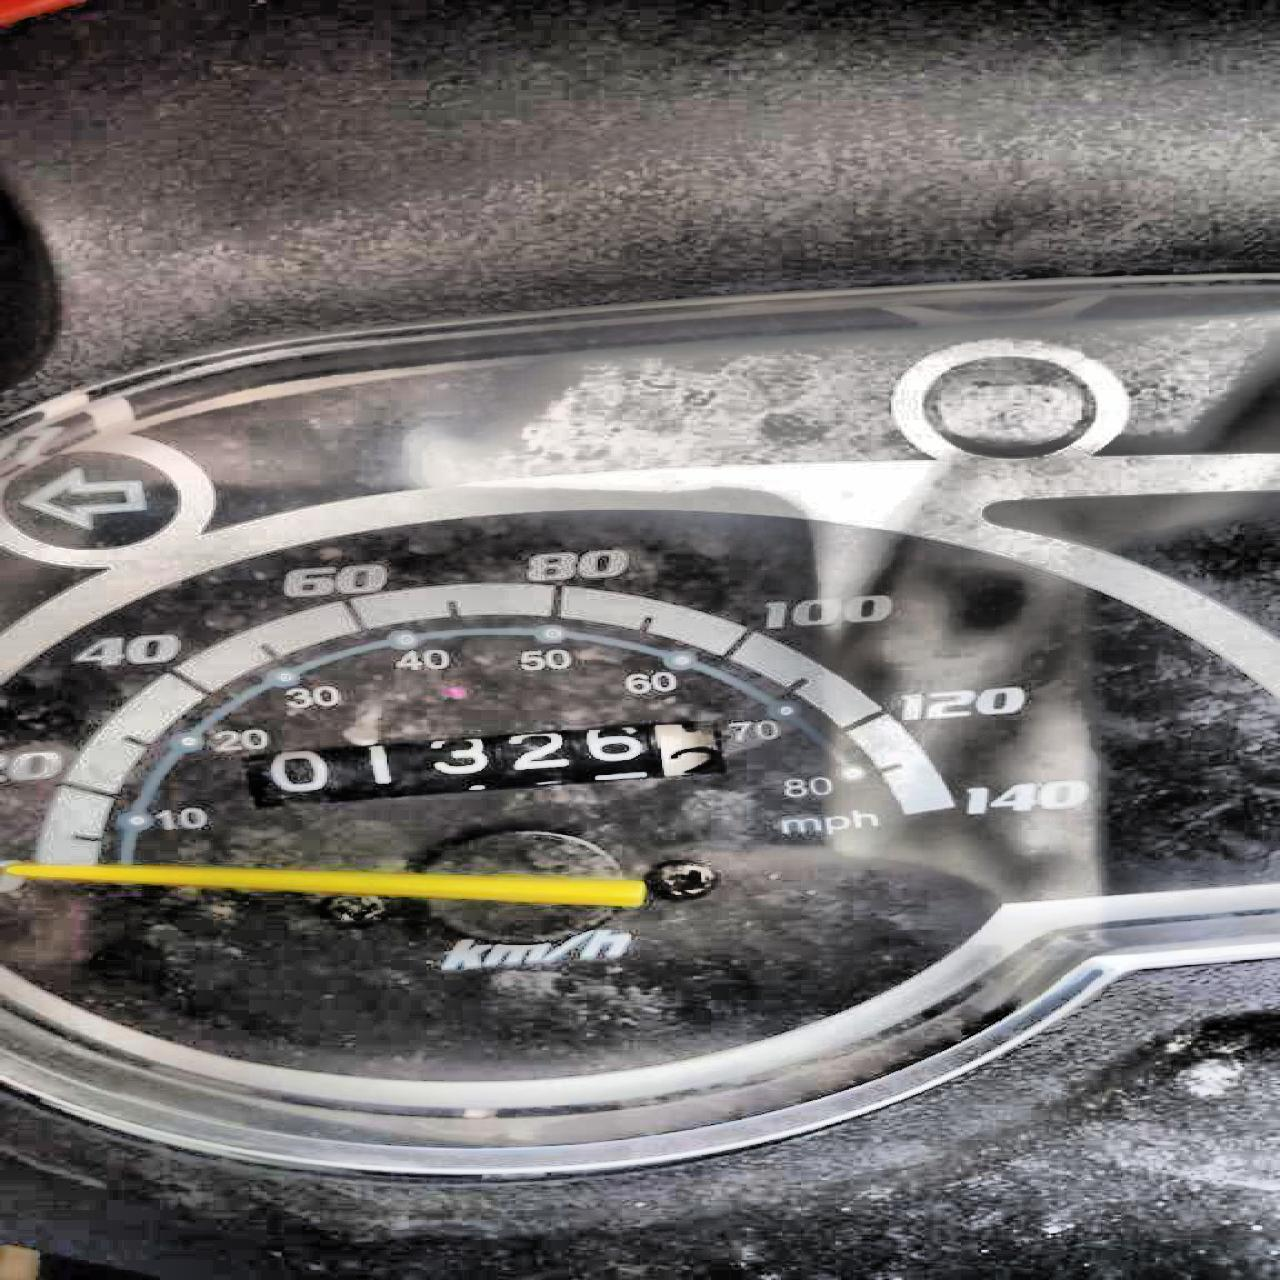0: (267, 749, 332, 794), (236, 723, 268, 751)
1: (358, 737, 395, 789)
2: (504, 728, 568, 771), (667, 742, 722, 782)
3: (427, 734, 491, 777)
6: (578, 723, 640, 765)
odometer: (236, 716, 729, 810)
